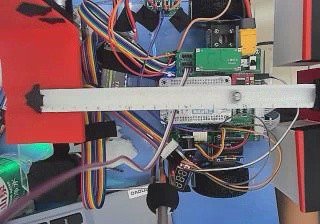ironball: (230, 90, 241, 100)
